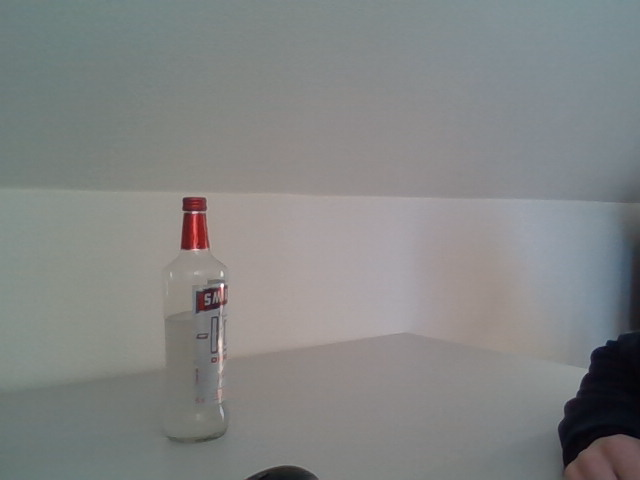bottle: (160, 196, 230, 442)
